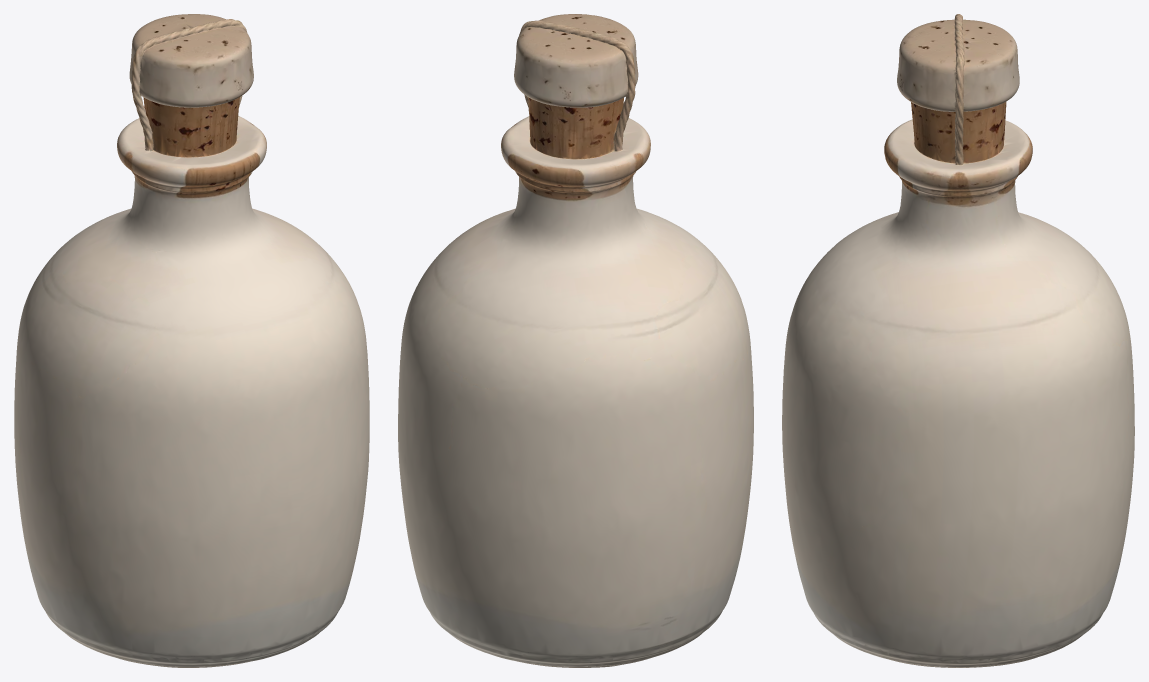
File: bottle.glb
3 renders of one model, left to right at view 1: azimuth 30°, elevation 25°; view 2: azimuth 150°, elevation 25°; view 3: azimuth 270°, elevation 25°, orthographic.
Size of the model in its own units: 1.05 by 1.9 by 1.05.
1 material, 1 textured.
